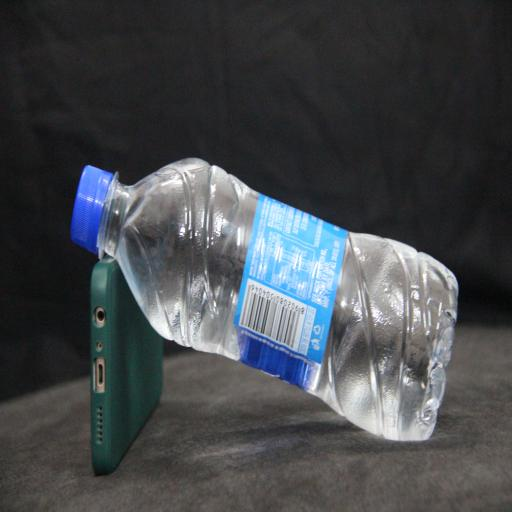Aquafina: (60, 145, 467, 459)
